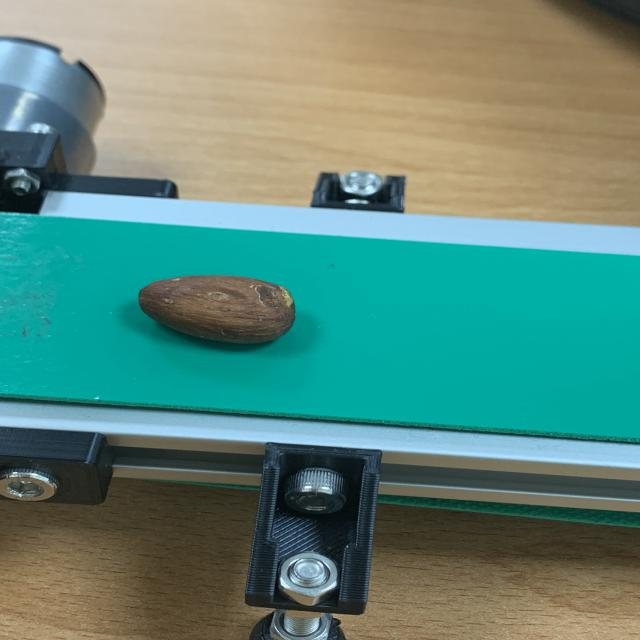Fine_cocoabeans: (71, 249, 406, 395)
